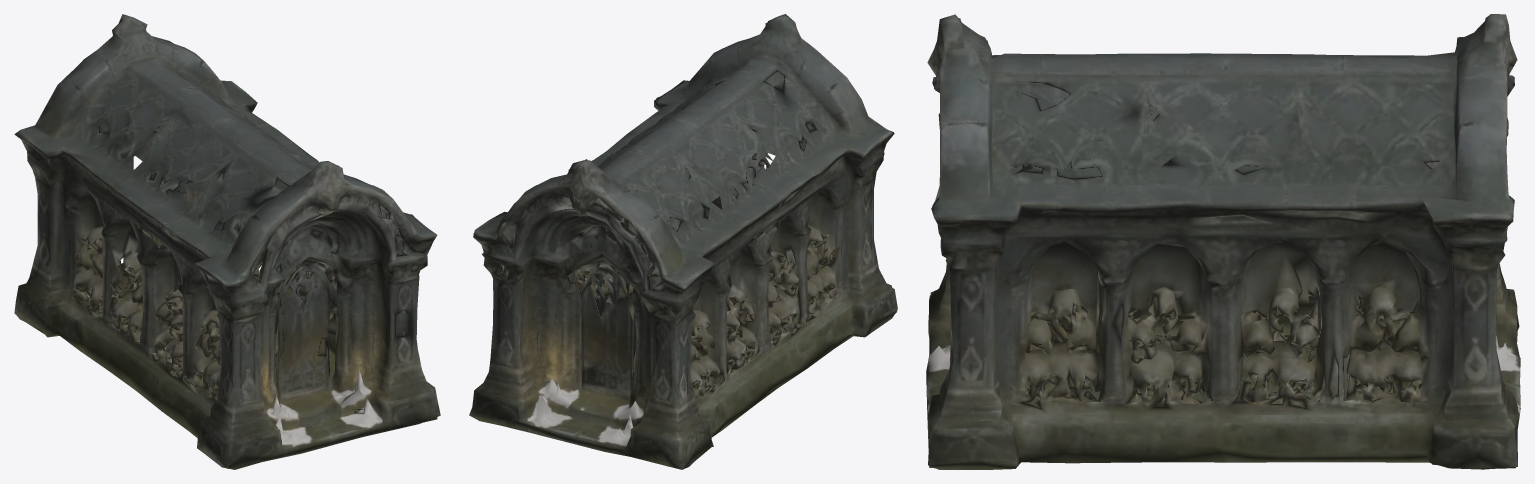
Rendered from ossuary.glb.
The picture shows the model from 3 angles, left to right: view 1: azimuth 30°, elevation 25°; view 2: azimuth 150°, elevation 25°; view 3: azimuth 270°, elevation 25°; orthographic projection. The views are drawn at different scales.
Visible parts, largest first — view 1: geometry_0; view 2: geometry_0; view 3: geometry_0.
Part boxes in pixels (bbox=[...]): geometry_0: bbox=[14, 14, 440, 469]; geometry_0: bbox=[469, 14, 897, 469]; geometry_0: bbox=[926, 14, 1520, 469].
Bounding box in the file's own units: 0.5742 × 0.7144 × 0.9989.
Materials: 1 (1 with a texture image).
